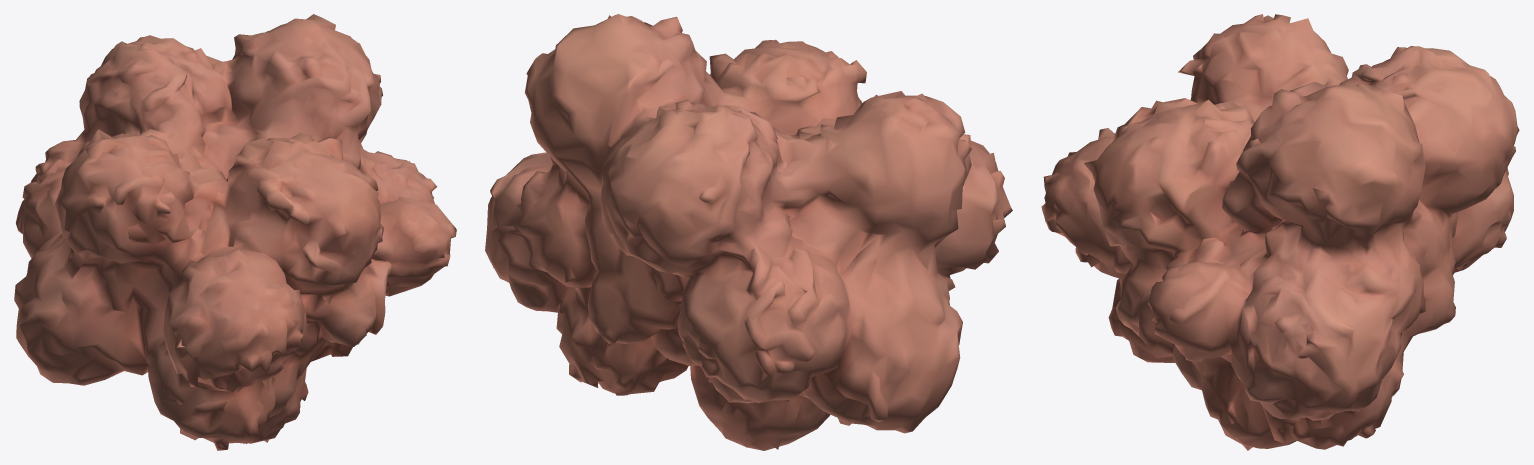
File: clump-core.glb
3 views of the same model, side by side, from view 1: azimuth 30°, elevation 25°; view 2: azimuth 150°, elevation 25°; view 3: azimuth 270°, elevation 25° (orthographic). The views are drawn at different scales.
Visible parts, largest first — view 1: tripo_node_e0b1f722-796b-467d-877e-02ac214dc760; view 2: tripo_node_e0b1f722-796b-467d-877e-02ac214dc760; view 3: tripo_node_e0b1f722-796b-467d-877e-02ac214dc760.
Boxes of the visible parts, bbox=[...] form: tripo_node_e0b1f722-796b-467d-877e-02ac214dc760: bbox=[14, 14, 456, 450]; tripo_node_e0b1f722-796b-467d-877e-02ac214dc760: bbox=[485, 14, 1012, 450]; tripo_node_e0b1f722-796b-467d-877e-02ac214dc760: bbox=[1041, 14, 1519, 450].
Size of the model in its own units: 0.9812 by 0.8584 by 0.9162.
1 material, 1 textured.
